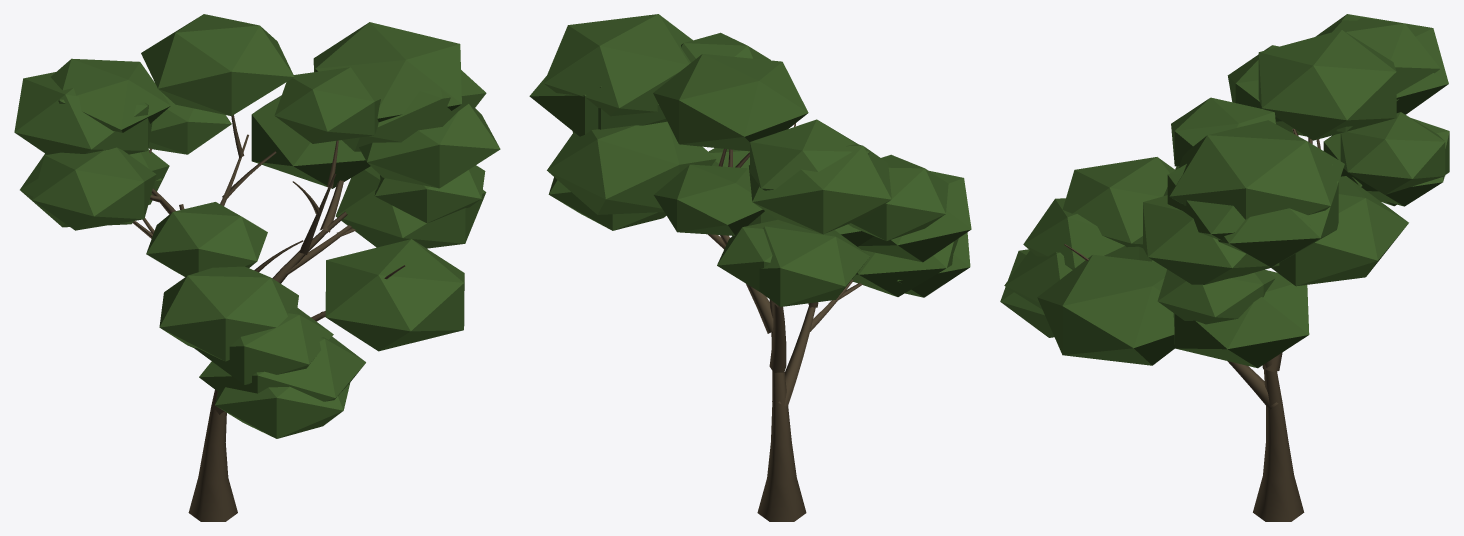
File: jungle_tree_a.glb
3 views of the same model, side by side, from view 1: azimuth 30°, elevation 25°; view 2: azimuth 150°, elevation 25°; view 3: azimuth 270°, elevation 25° (orthographic). The views are drawn at different scales.
Parts seen in each view (by area): view 1: JungleCanopy, JungleTrunk; view 2: JungleCanopy, JungleTrunk; view 3: JungleCanopy, JungleTrunk.
Part boxes in pixels (x1,y1,x2,y2): JungleCanopy: [14, 14, 500, 438]; JungleTrunk: [133, 115, 405, 521]; JungleCanopy: [529, 14, 971, 306]; JungleTrunk: [708, 123, 862, 521]; JungleCanopy: [1000, 14, 1449, 368]; JungleTrunk: [1064, 128, 1320, 521].
Size of the model in its own units: 8.7 by 9.06 by 7.71.
